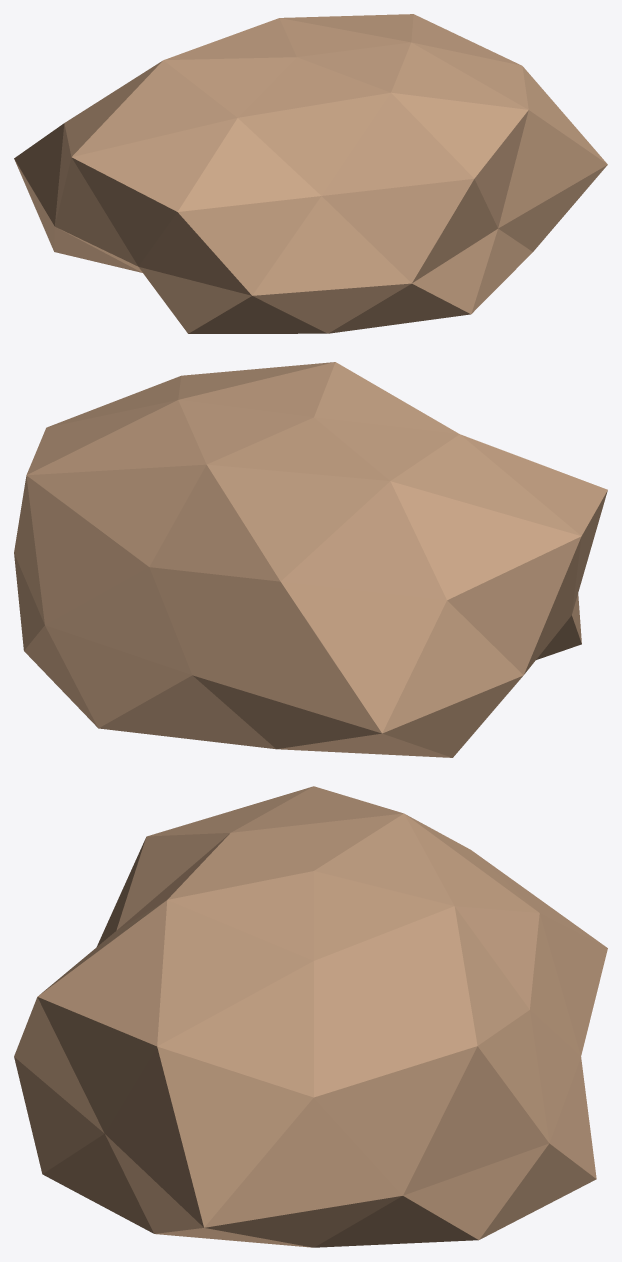
File: rock_a.glb
3 views of the same model, one above another, from view 1: azimuth 30°, elevation 25°; view 2: azimuth 150°, elevation 25°; view 3: azimuth 270°, elevation 25° (orthographic). The views are drawn at different scales.
Parts seen in each view (by area): view 1: Rock; view 2: Rock; view 3: Rock.
Boxes of the visible parts, x1,y1,x2,y2 form: Rock: (14, 14, 607, 333); Rock: (14, 362, 607, 757); Rock: (14, 786, 607, 1247).
Size of the model in its own units: 6.28 by 2.43 by 5.
